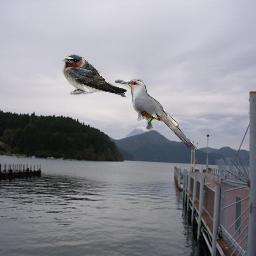Cuckoo: (115, 79, 197, 152)
Swallow: (61, 54, 128, 98)
